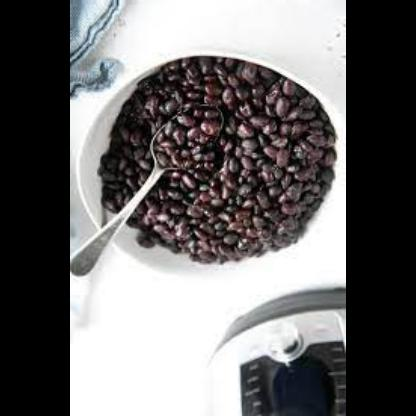black beans: (98, 56, 338, 266)
